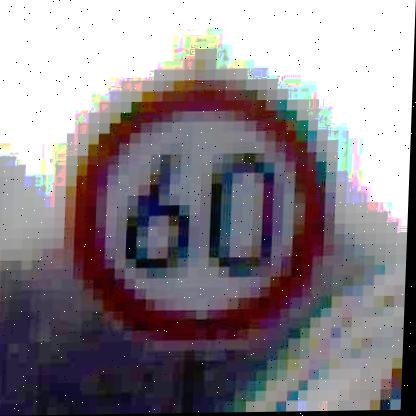Speed Limit -60-: (51, 66, 344, 351)
